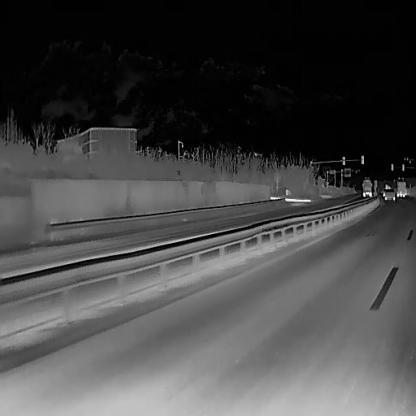car: (361, 178, 372, 197), (395, 181, 406, 198), (384, 188, 395, 200), (382, 189, 386, 197)
